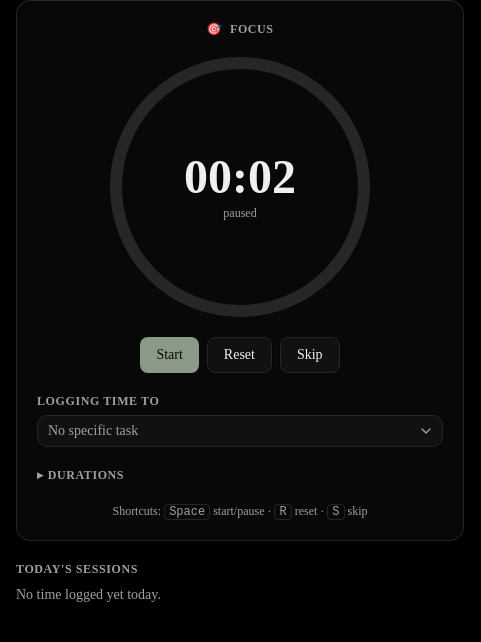
it: FocusTimer task attribution › enables the task select again once the session is stopped (reset)
Expected: the dropdown with id "focus-task" is enabled, [37, 415, 443, 447]
Click the button "Start": x=170, y=355 [140, 337, 199, 373]
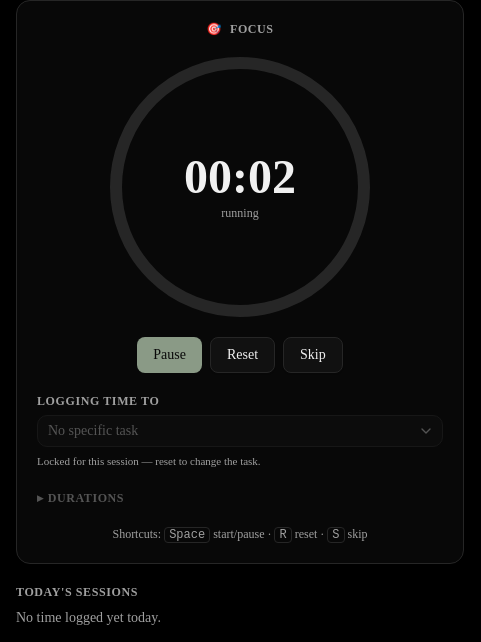
Result: the dropdown with id "focus-task" is disabled at [37, 415, 443, 447]
Click the button with aria-label "Reset timer": x=242, y=355 [210, 337, 275, 373]
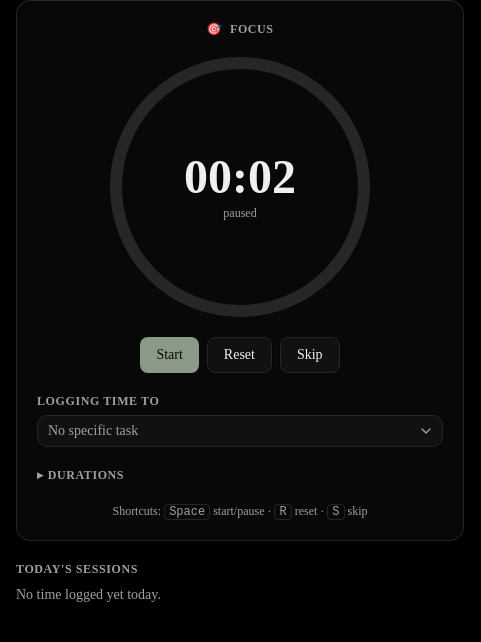
Result: the dropdown with id "focus-task" is enabled at [37, 415, 443, 447]
